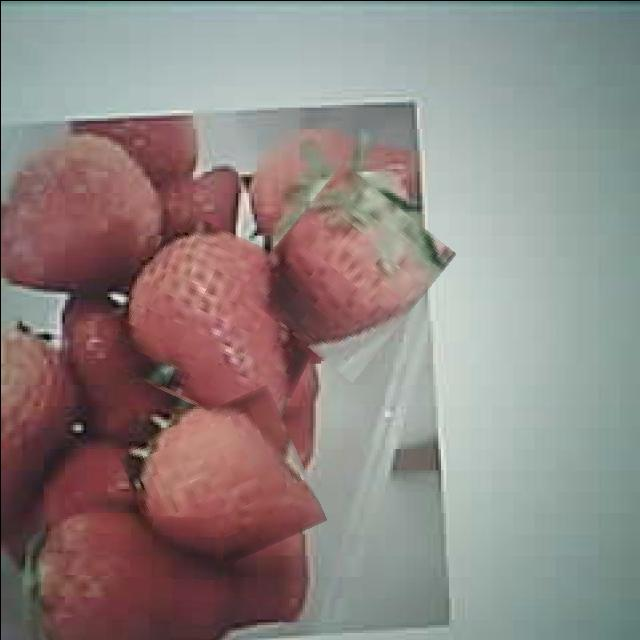strawberry: (116, 222, 328, 424), (256, 175, 438, 368), (126, 397, 314, 572), (33, 512, 222, 640)
